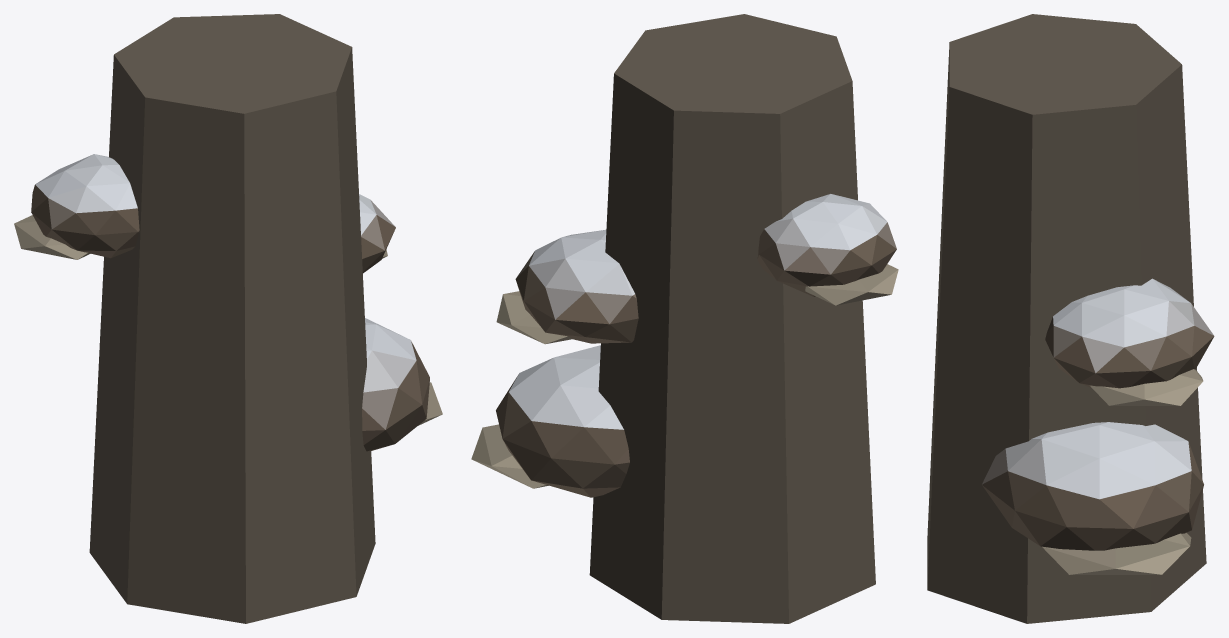
The model's file is tinder_fungus.glb.
The picture shows the model from 3 angles, left to right: view 1: azimuth 30°, elevation 25°; view 2: azimuth 150°, elevation 25°; view 3: azimuth 270°, elevation 25°; orthographic projection.
Parts seen in each view (by area): view 1: tinder_fungus; view 2: tinder_fungus; view 3: tinder_fungus.
Boxes of the visible parts, x1,y1,x2,y2 form: tinder_fungus: (14, 14, 442, 623); tinder_fungus: (471, 14, 898, 623); tinder_fungus: (927, 14, 1214, 623).
Bounding box in the file's own units: 0.386 × 0.45 × 0.2346.
